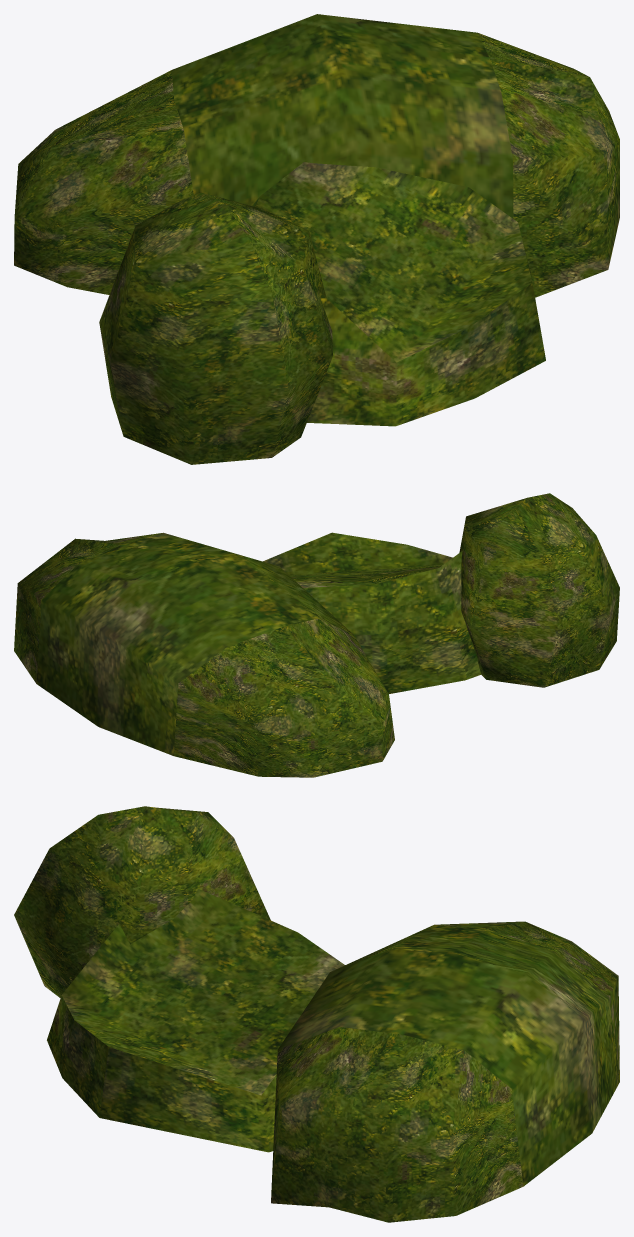
The model's file is OVERHILL_A_01_ROCK_BRIDGE_BASE02.fbx.
The picture shows the model from 3 angles, top to bottom: view 1: azimuth 30°, elevation 25°; view 2: azimuth 150°, elevation 25°; view 3: azimuth 270°, elevation 25°; orthographic projection. The views are drawn at different scales.
Visible parts, largest first — view 1: OVERHILL_A_01_ROCK_BRIDGE_BASE02; view 2: OVERHILL_A_01_ROCK_BRIDGE_BASE02; view 3: OVERHILL_A_01_ROCK_BRIDGE_BASE02.
Part boxes in pixels (x1,y1,x2,y2): OVERHILL_A_01_ROCK_BRIDGE_BASE02: (14,14,619,464); OVERHILL_A_01_ROCK_BRIDGE_BASE02: (14,493,619,777); OVERHILL_A_01_ROCK_BRIDGE_BASE02: (14,806,619,1222).
Size of the model in its own units: 33489 by 12141 by 31175.
2 materials, 2 textured.
